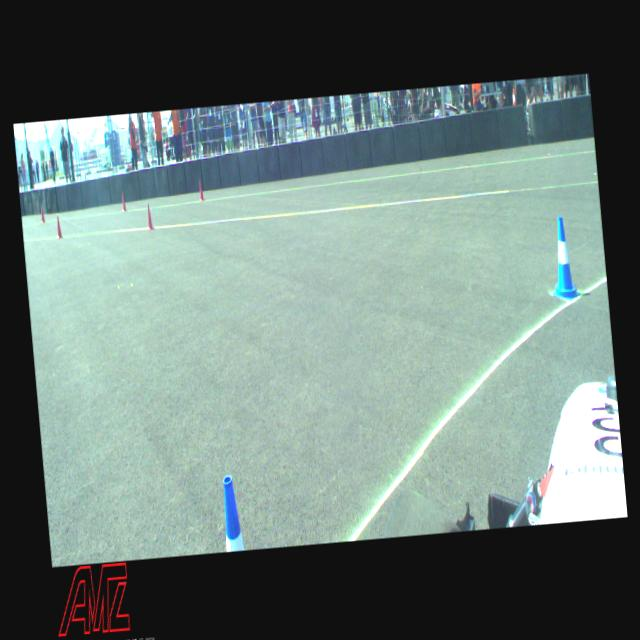blue_cone: (548, 215, 576, 298), (220, 474, 244, 551)
unknown_cone: (146, 202, 153, 230), (56, 215, 62, 238), (198, 179, 204, 201), (120, 192, 126, 210), (40, 205, 44, 222)
